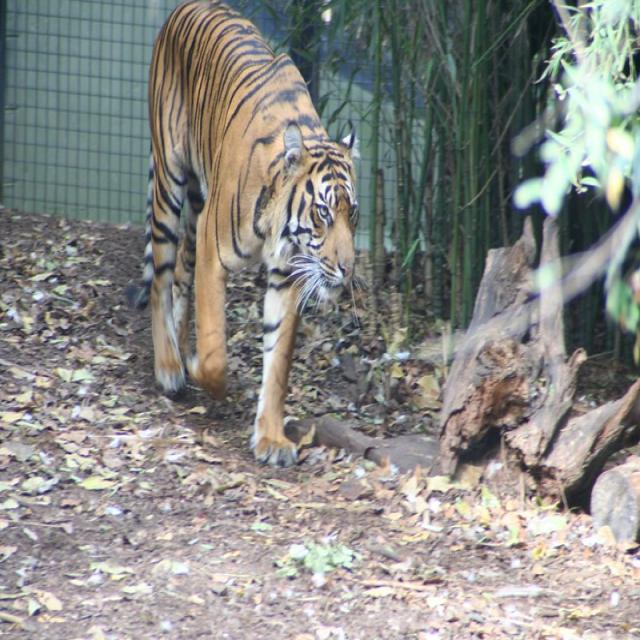Tiger: (122, 5, 361, 469)
